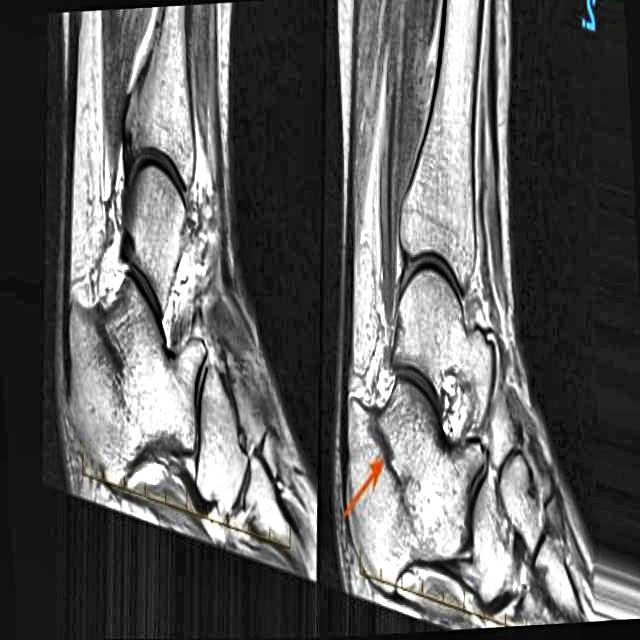Oblique Displaced: (359, 401, 425, 531)
